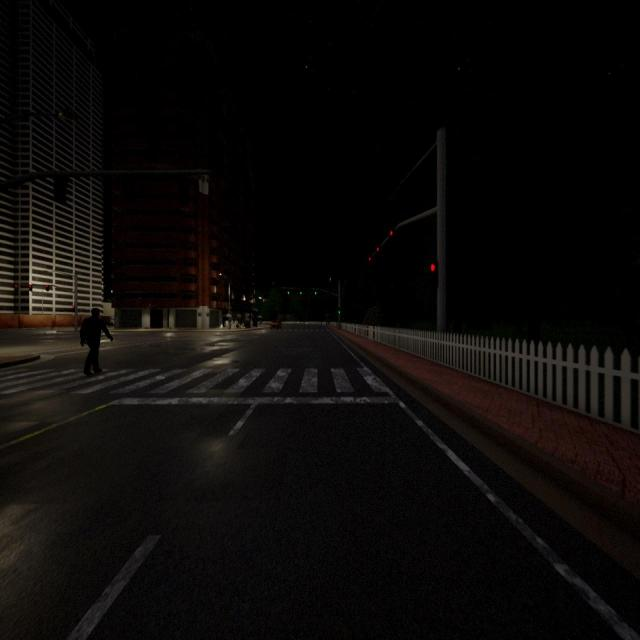Pedestrian: (80, 307, 113, 375)
Vehicle: (270, 320, 282, 329)
traffic_light: (120, 176, 133, 208), (54, 176, 66, 206), (179, 175, 187, 202), (431, 261, 438, 288), (15, 283, 19, 296), (45, 284, 50, 292), (28, 284, 32, 291), (72, 306, 76, 313), (338, 308, 341, 314), (390, 230, 393, 235), (287, 291, 290, 295), (314, 291, 317, 295), (368, 257, 371, 261), (376, 247, 379, 251), (300, 292, 302, 295)
